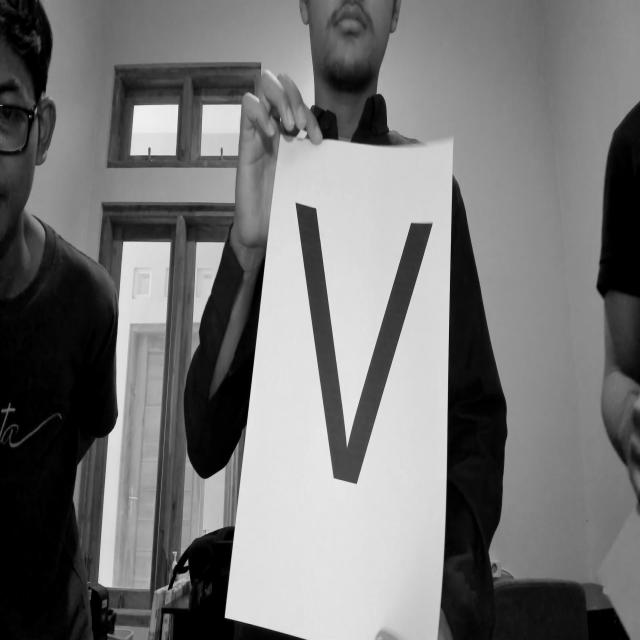v: (281, 190, 444, 505)
